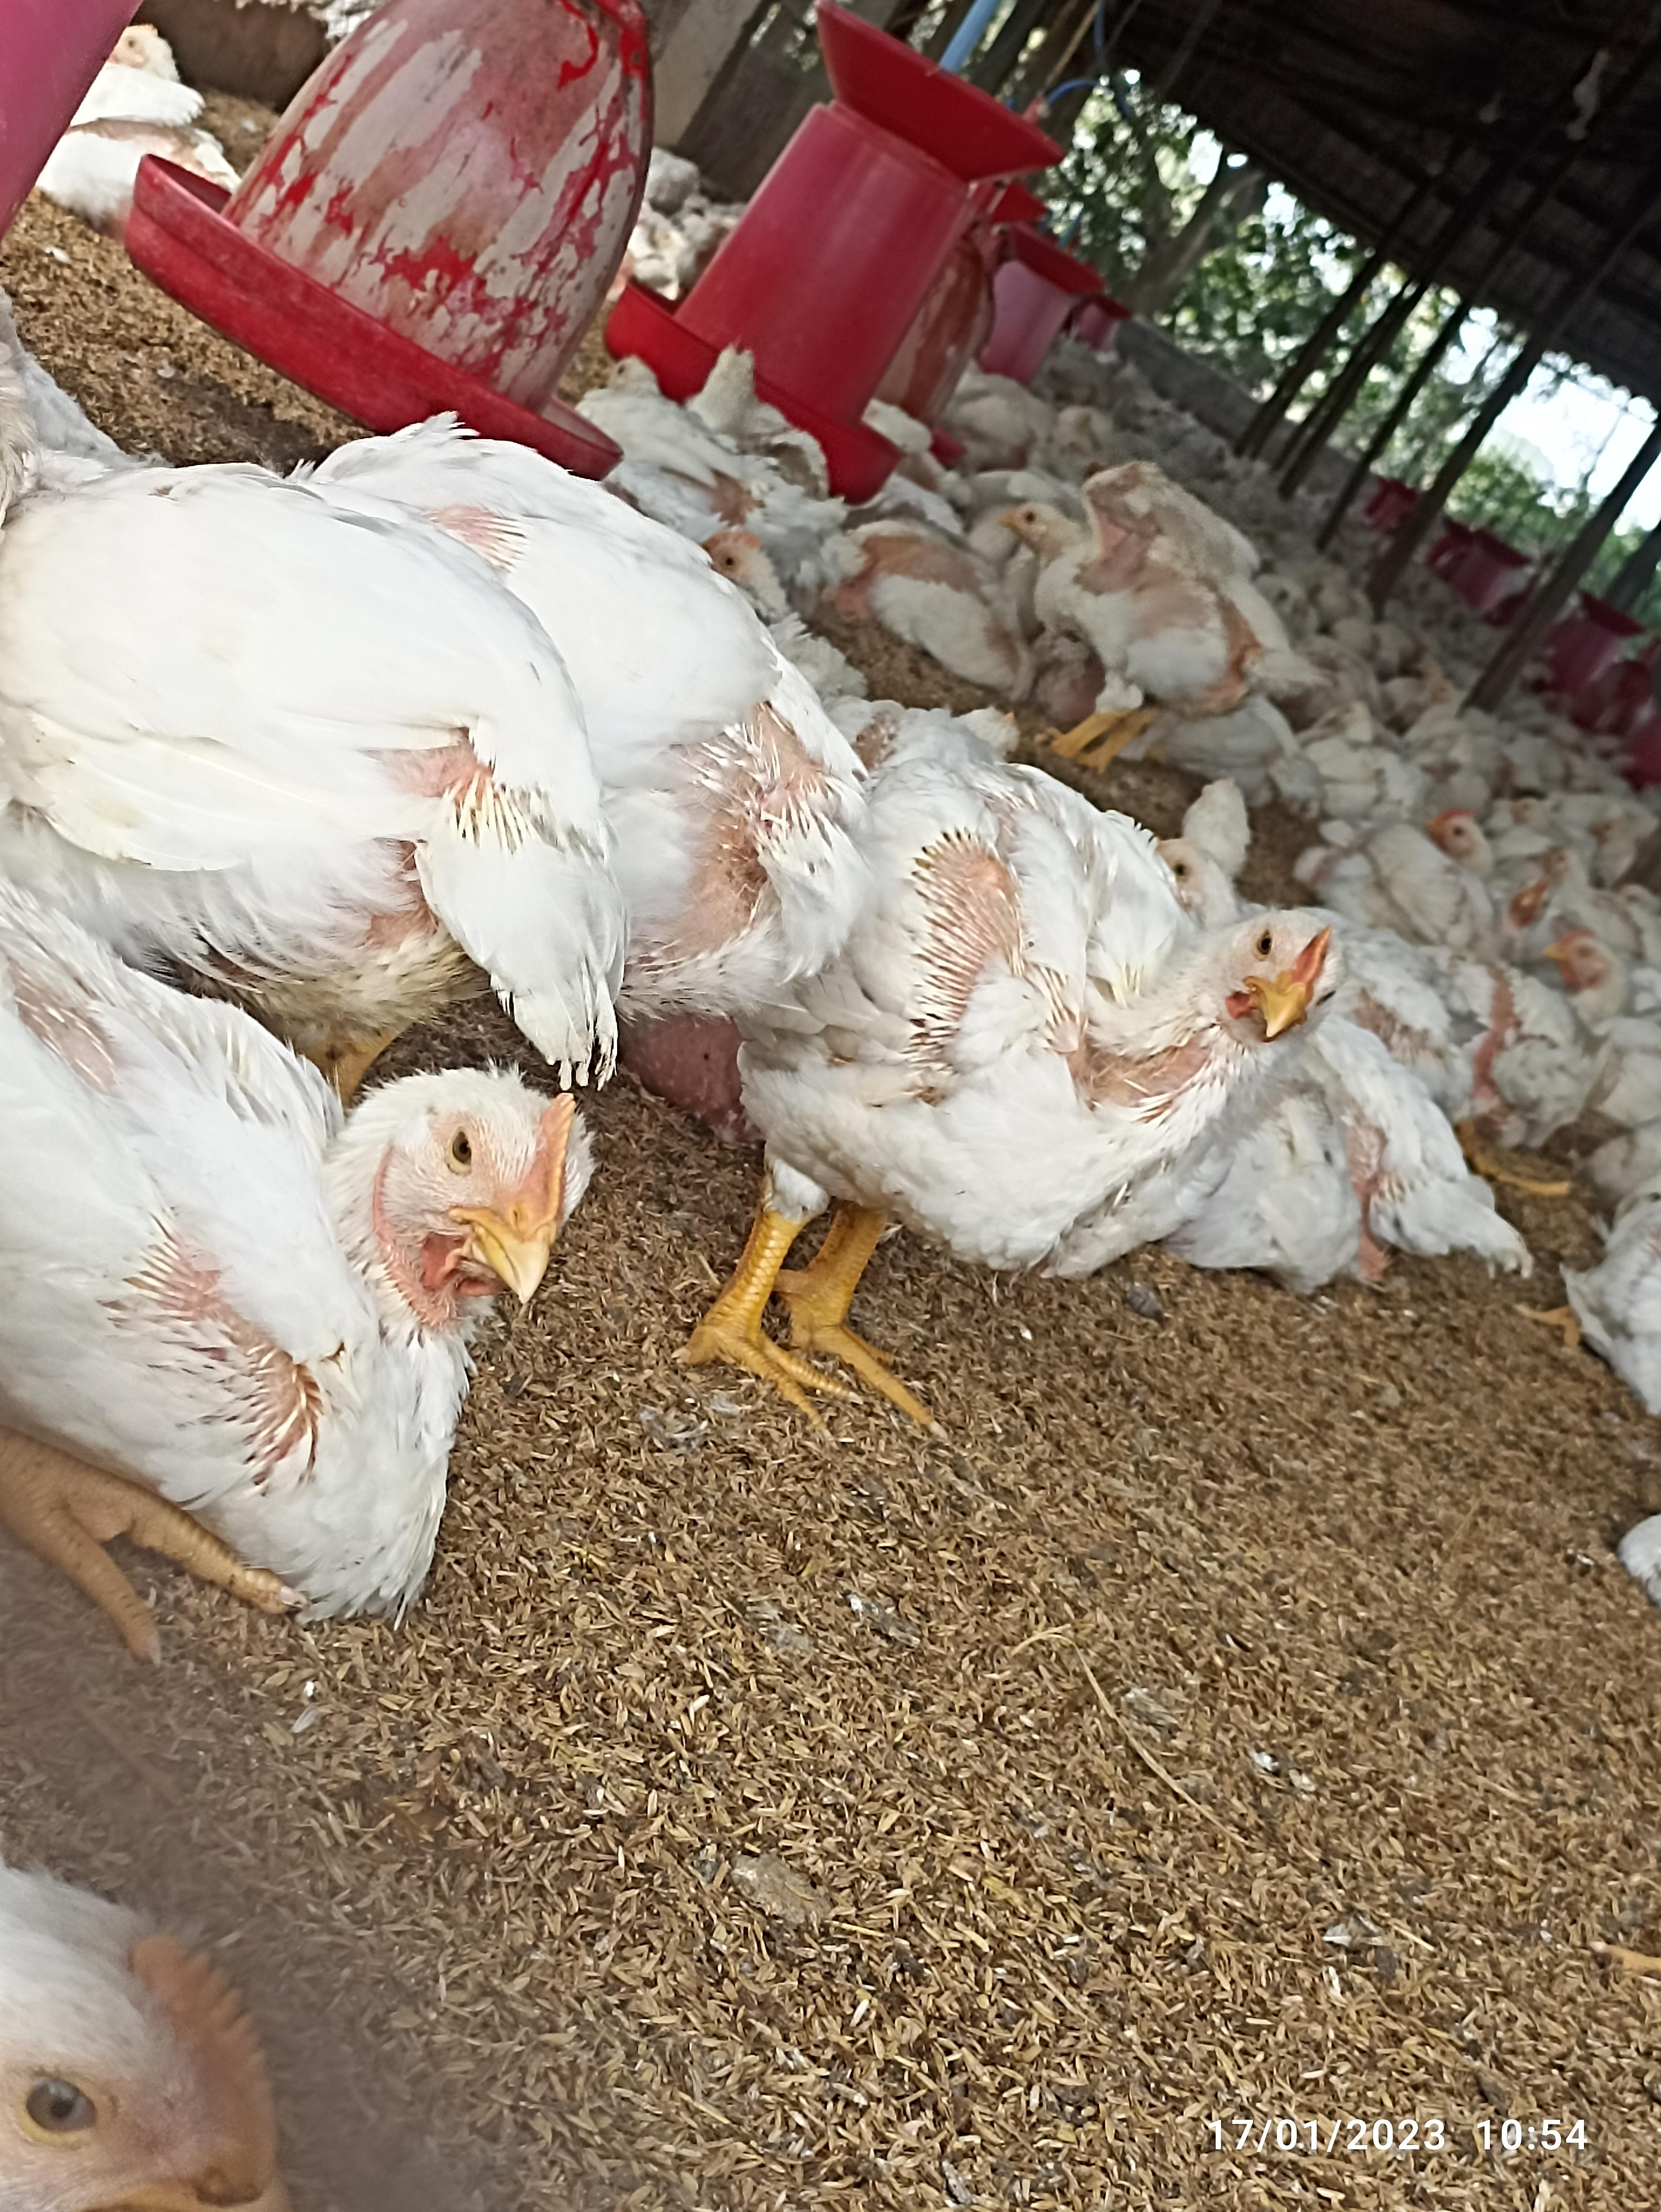Pollos: (9, 419, 630, 1012), (0, 1055, 591, 1605), (789, 762, 1338, 1280), (974, 469, 1310, 719), (1415, 925, 1631, 1134)
